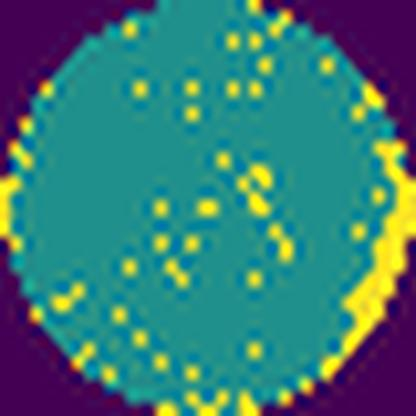Edge-Loc: (341, 139, 416, 371), (0, 165, 22, 257)
